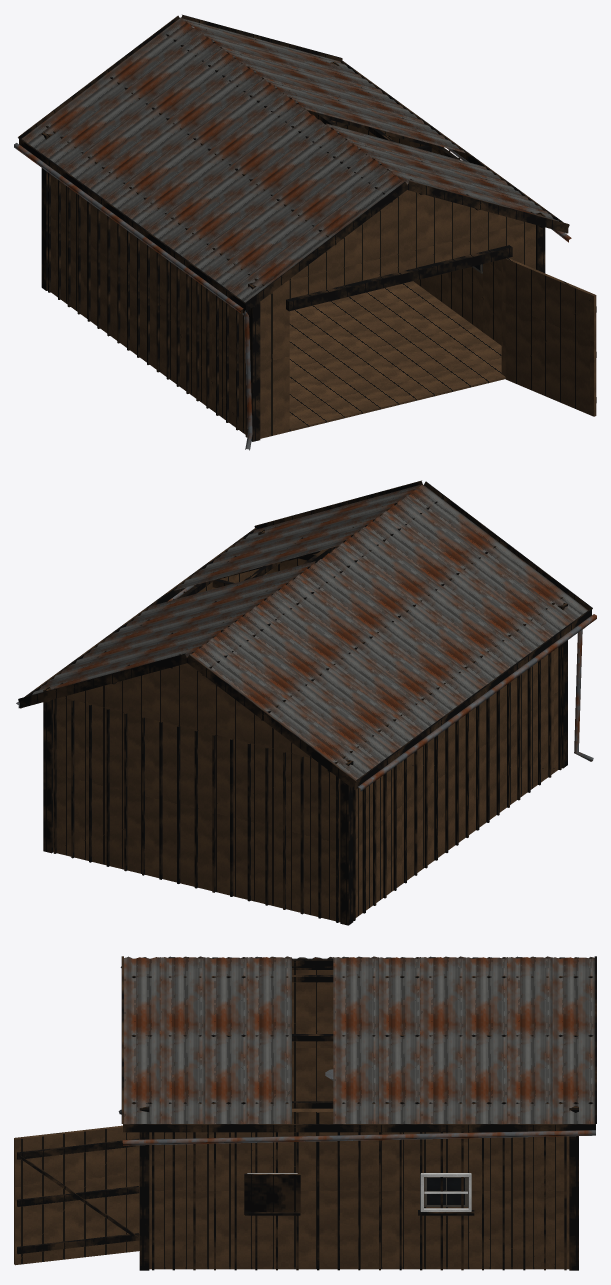
File: boathouse.glb
3 renders of one model, top to bottom at view 1: azimuth 30°, elevation 25°; view 2: azimuth 150°, elevation 25°; view 3: azimuth 270°, elevation 25°, orthographic. The views are drawn at different scales.
Visible parts, largest first — view 1: detail, shell-col; view 2: detail, shell-col; view 3: detail, shell-col.
Part boxes in pixels (box(x1,y1,x2,y2)): detail: box(14, 14, 571, 450); shell-col: box(51, 125, 596, 438); detail: box(16, 480, 596, 925); shell-col: box(53, 558, 558, 922); detail: box(118, 956, 596, 1270); shell-col: box(14, 970, 569, 1269).
Size of what is drawn, in the model's own units: 9.23 by 6.12 by 13.43.
Materials: 13 (13 with a texture image).
